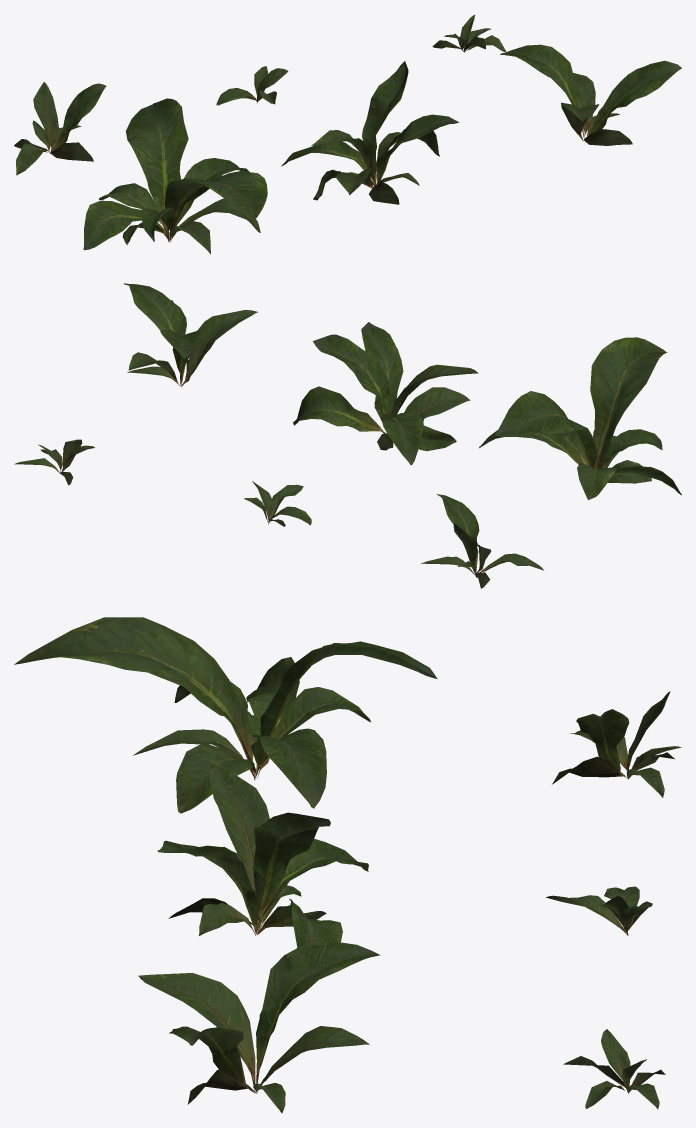
File: anthurium_botany_01.glb
3 renders of one model, top to bottom at view 1: azimuth 30°, elevation 25°; view 2: azimuth 150°, elevation 25°; view 3: azimuth 270°, elevation 25°, orthographic. The views are drawn at different scales.
Parts seen in each view (by area): view 1: anthurium_botany_01_a; view 2: anthurium_botany_01_a; view 3: anthurium_botany_01_a.
Boxes of the visible parts, bbox=[...] form: anthurium_botany_01_a: bbox=[14, 15, 681, 254]; anthurium_botany_01_a: bbox=[14, 283, 681, 588]; anthurium_botany_01_a: bbox=[14, 617, 681, 1113].
Bounding box in the file's own units: 2.79 × 0.498 × 1.8.
1 material, 1 textured.
